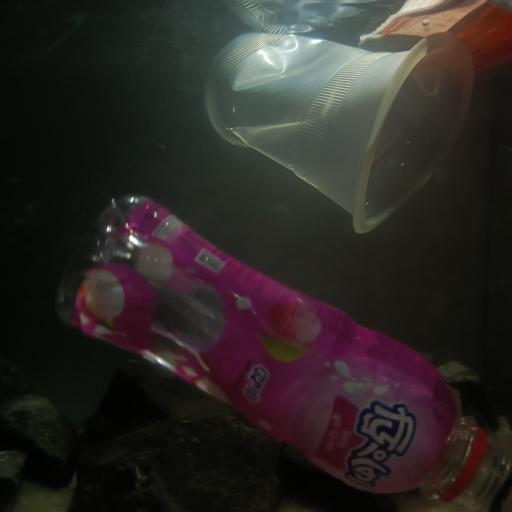mask: (358, 0, 512, 98)
plastic_bottle: (52, 192, 512, 512)
plastic_cup: (204, 25, 466, 234)
